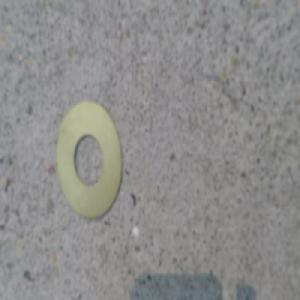Washer: (57, 99, 125, 220)
